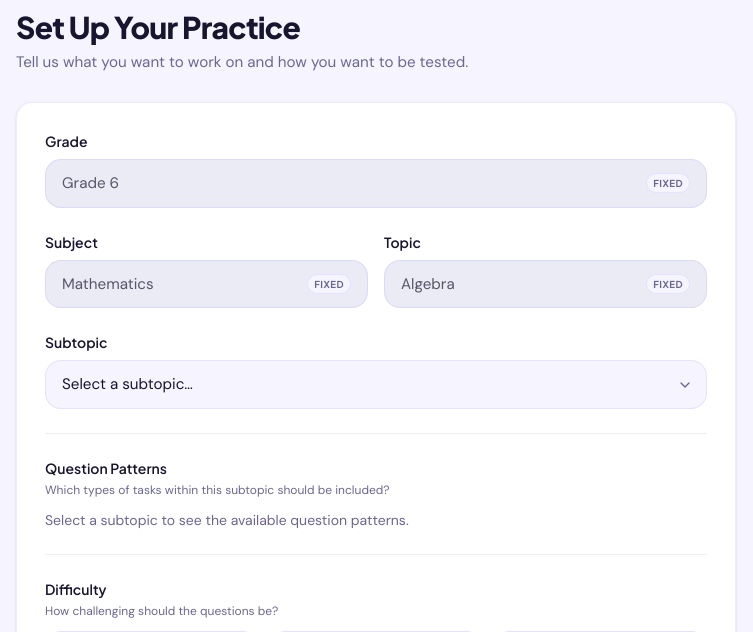
Scenario: Setup form › shows a message when the subtopic has no question patterns
Select "Simplify & Calculate" in the dropdown named "subtopic". click: (376, 385)
box: [45,360,707,409]
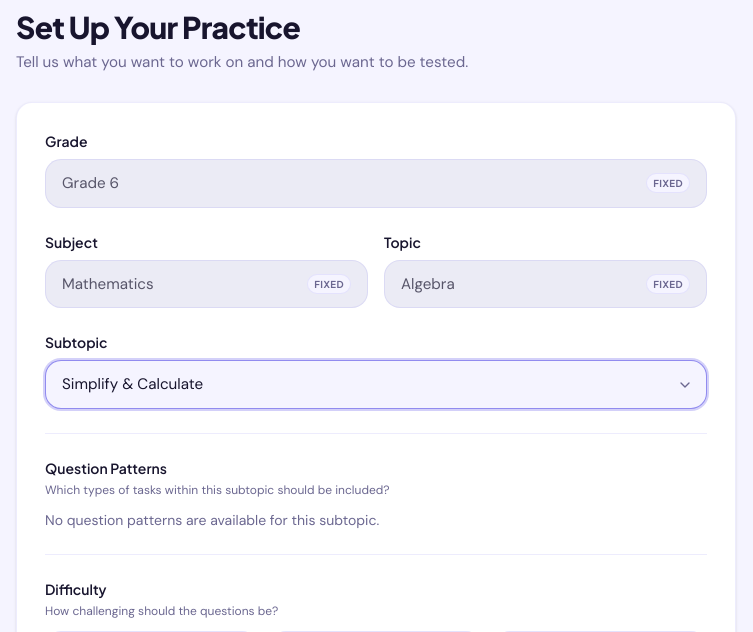
Now the text "No question patterns are available for this subtopic." is shown, box [45,511,379,529]
